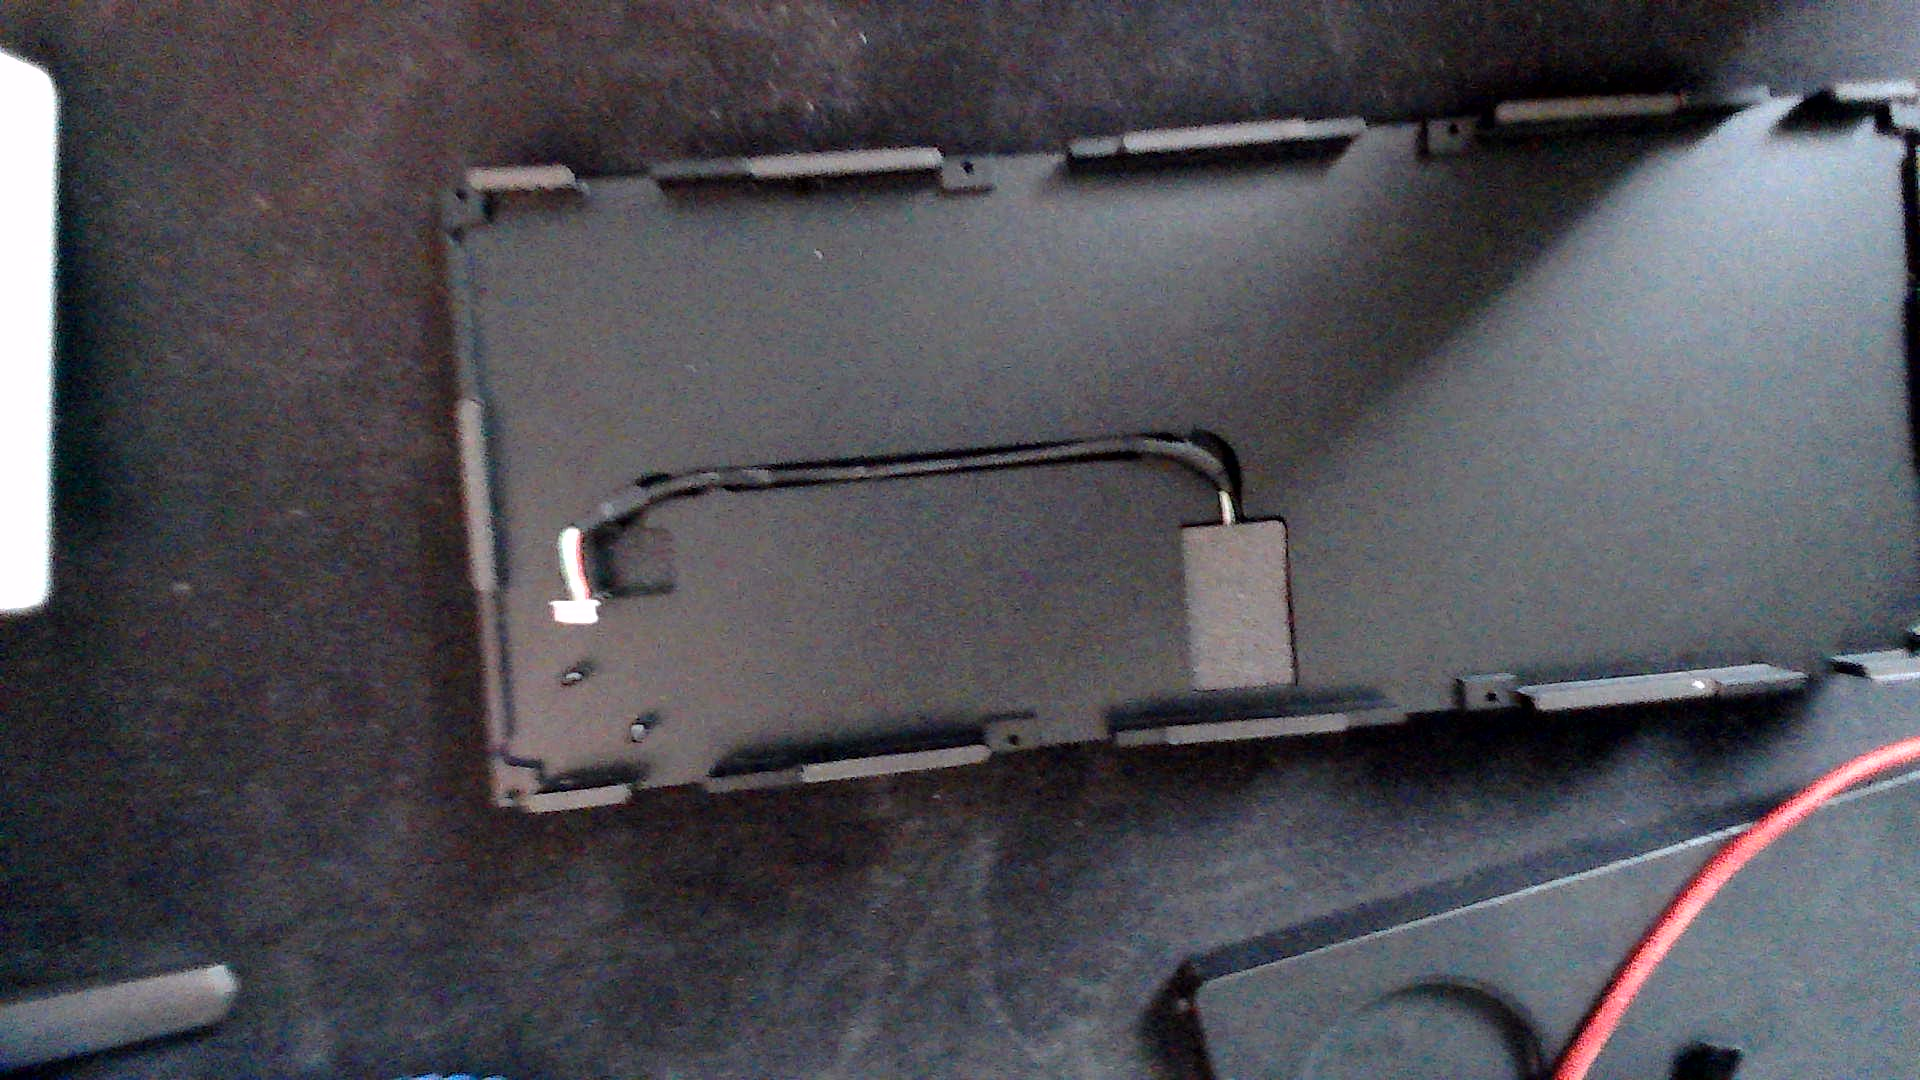case: (394, 51, 1920, 835)
